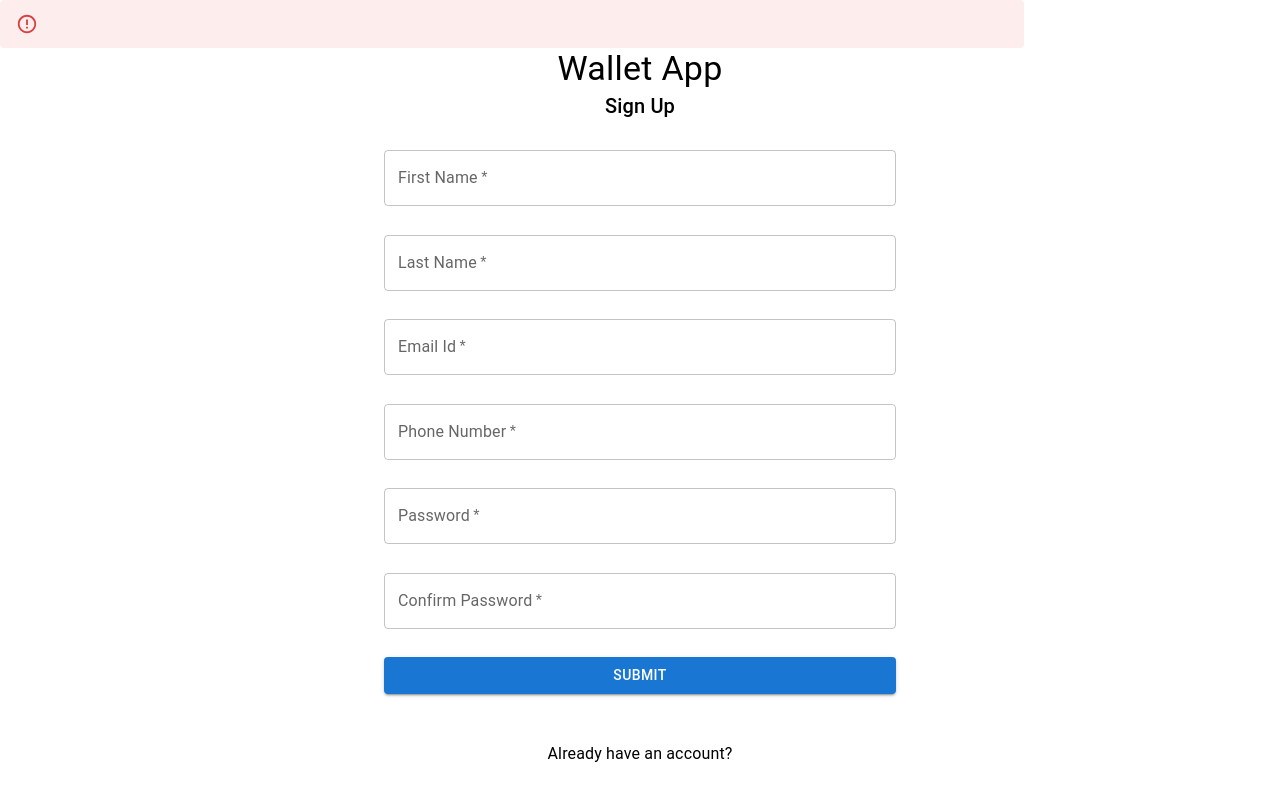
Test: SignUpPage Component › invalid password
This screenshot has width=1280, height=793.
In the field with placeholder "First Name": (640,178) [384,150,896,206], type "John"
In the field with placeholder "Last Name": (640,263) [384,235,896,291], type "Kelly"
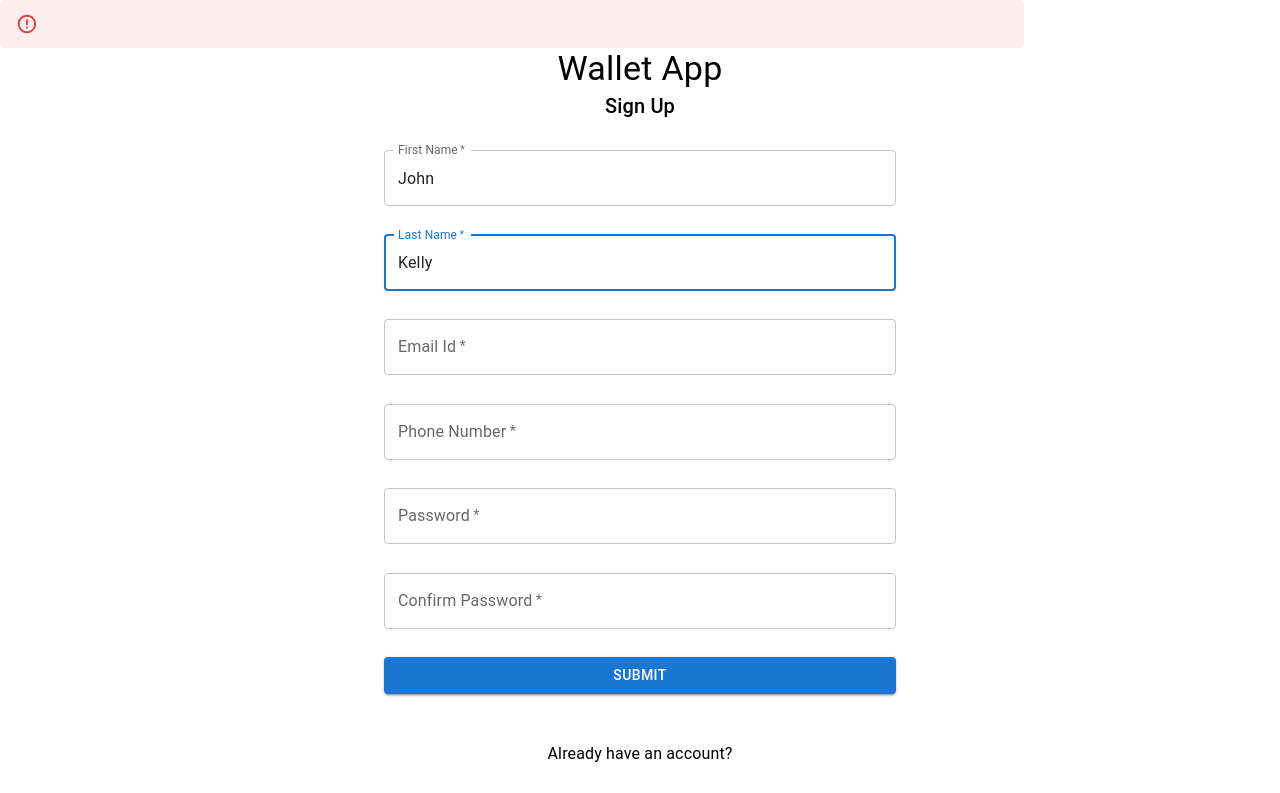
In the field with placeholder "Email Id": (640,347) [384,319,896,375], type "john.kelly@mail.com"
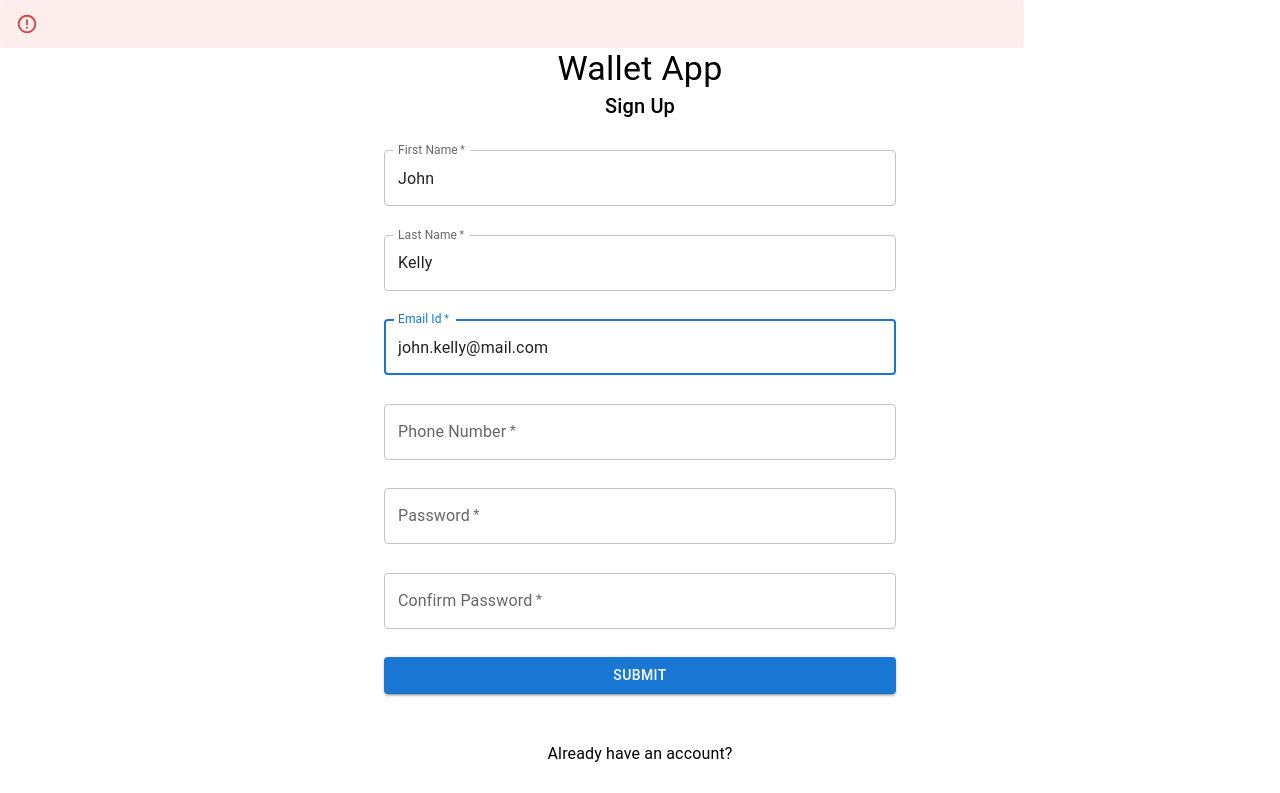
In the number field with placeholder "Phone Number": (640,432) [384,404,896,460], type "9741608985"
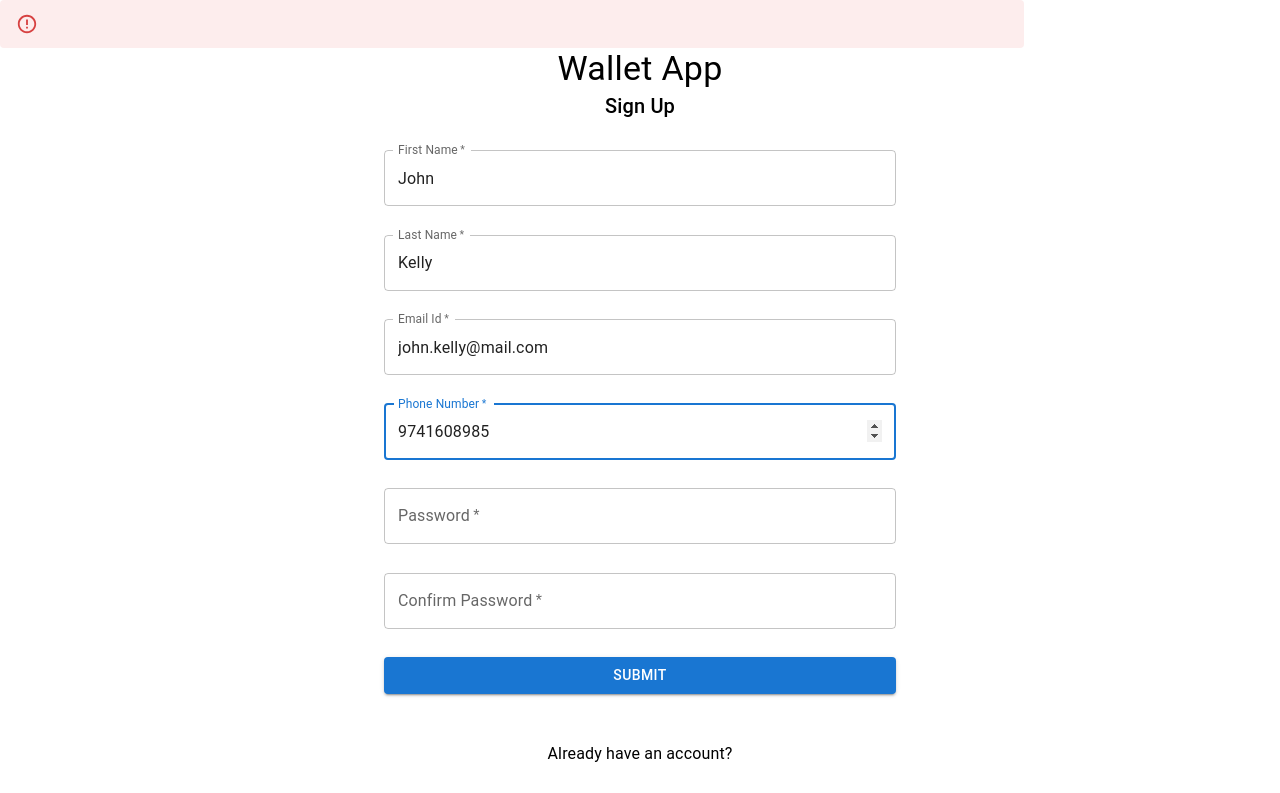
In the password field with placeholder "Password": (640,516) [384,488,896,544], type "password123"
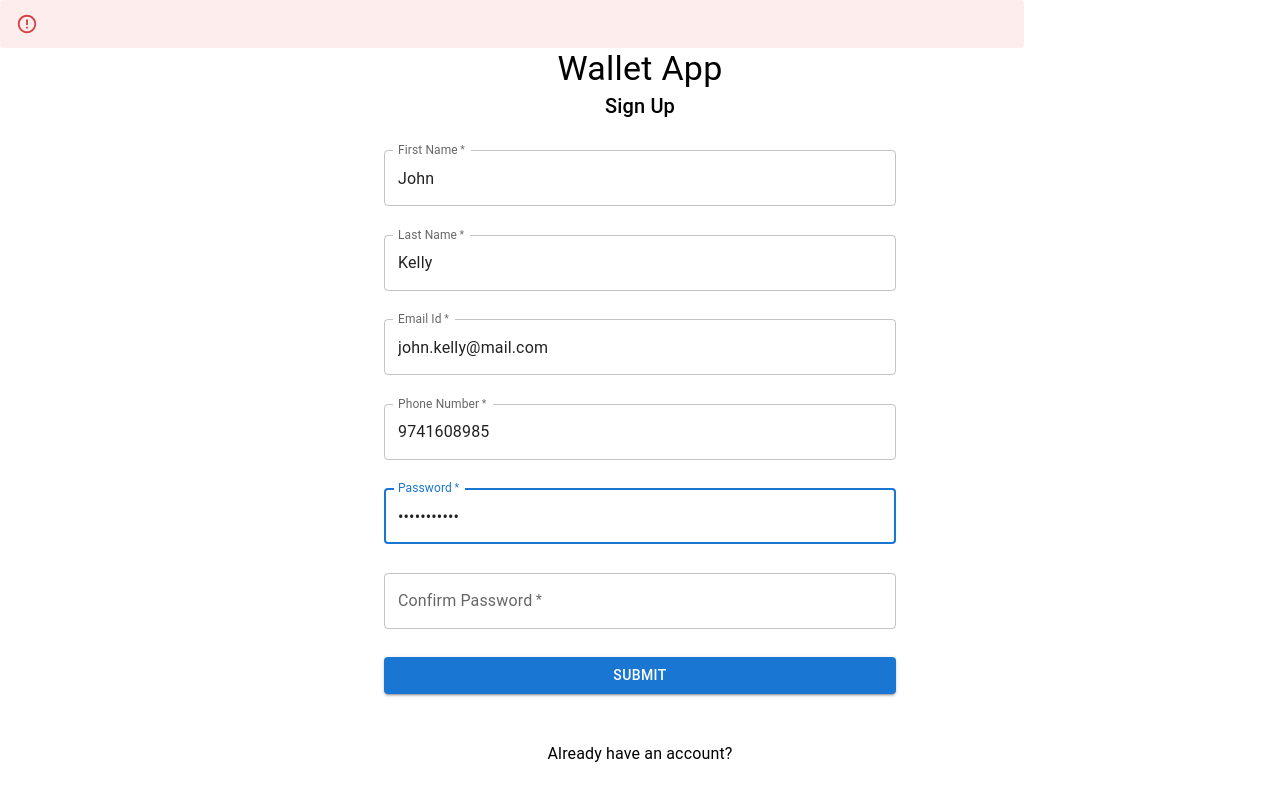
In the field with placeholder "Confirm Password": (640,601) [384,573,896,629], type "password1"
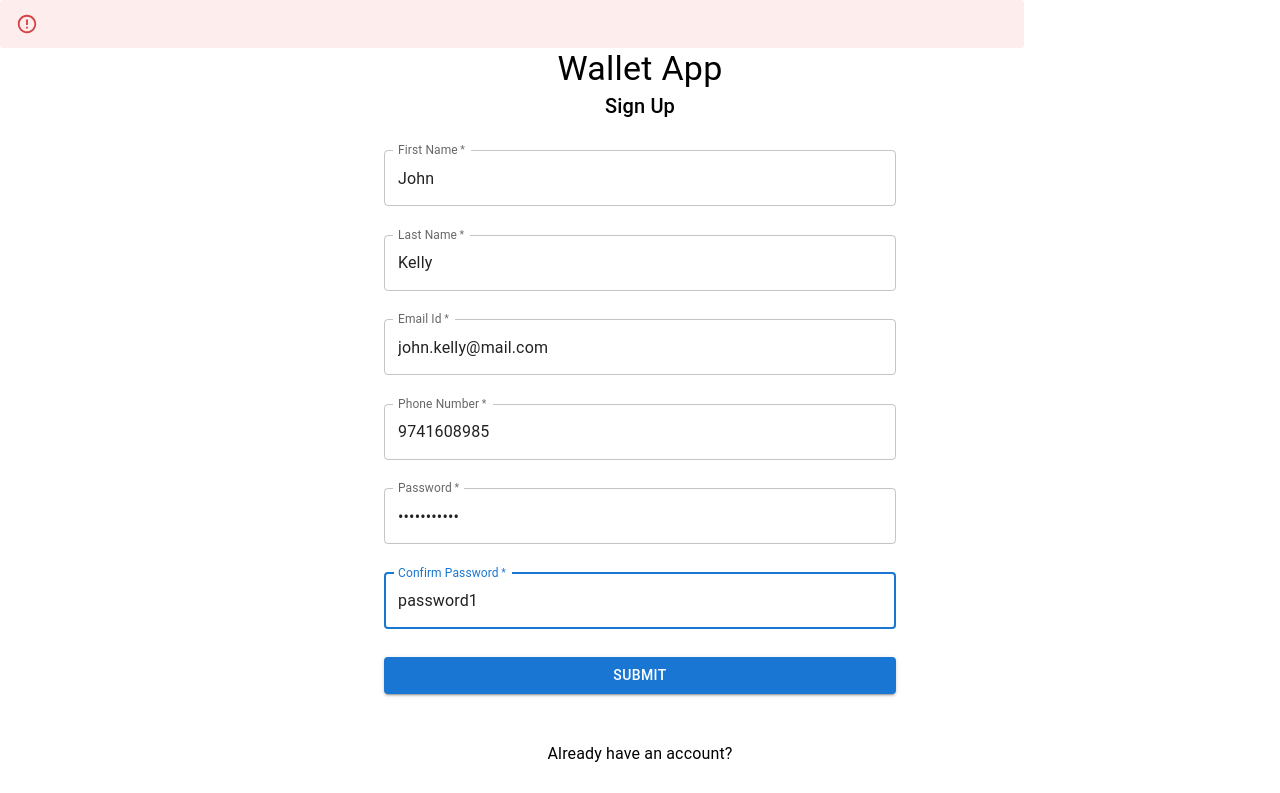
Submit the form from the button "Submit", box [384,657,896,694]
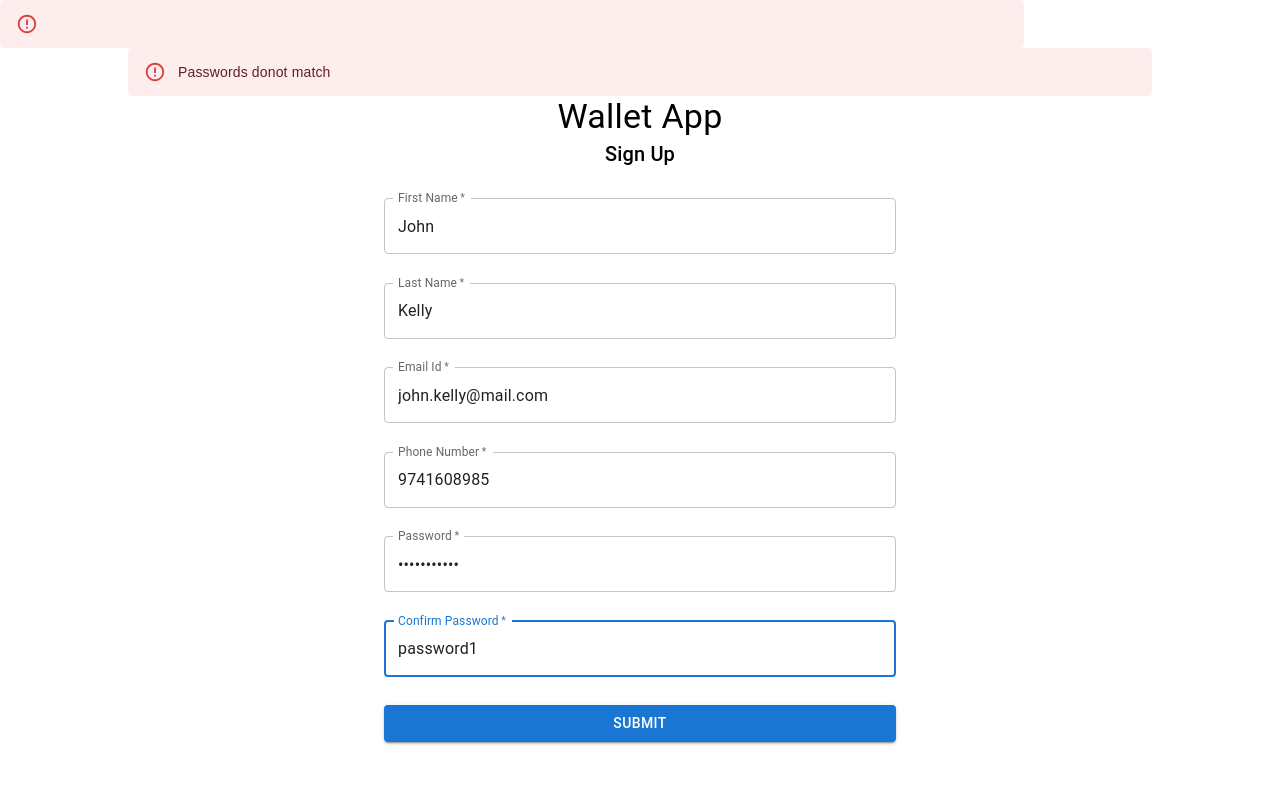
Check: the text "Passwords donot match" is shown, box [178,64,331,80]
